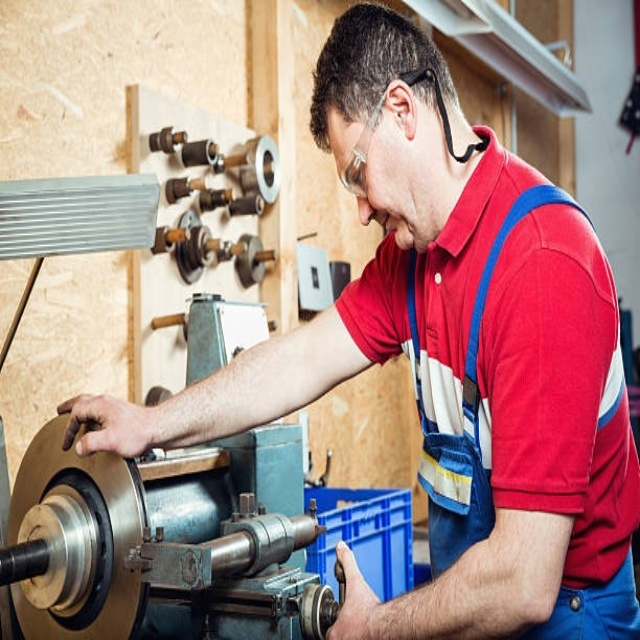Gafas: (342, 82, 388, 198)
Sin_guantes: (61, 389, 153, 461), (326, 536, 381, 634)
Sin_mascara: (369, 198, 407, 246)
